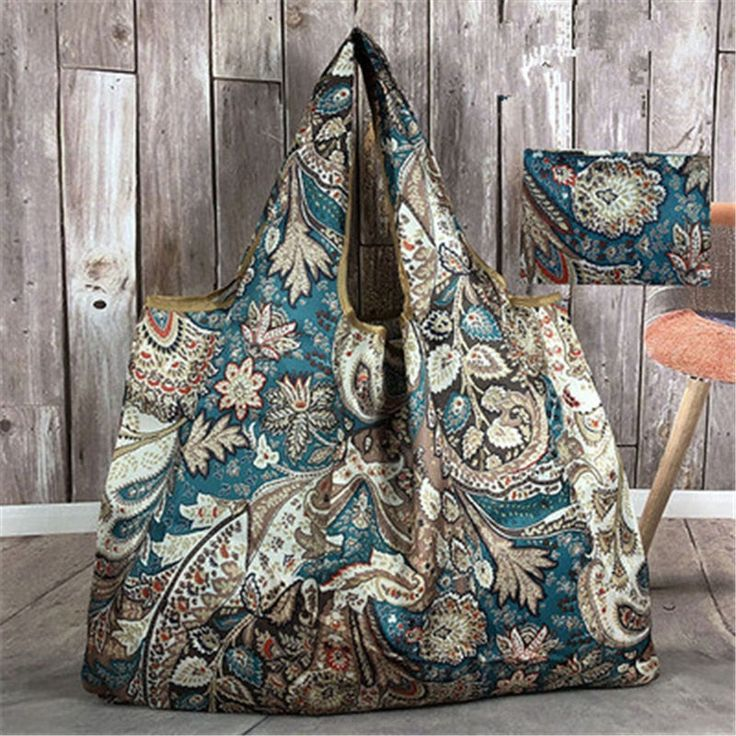nylon: (79, 32, 712, 712)
